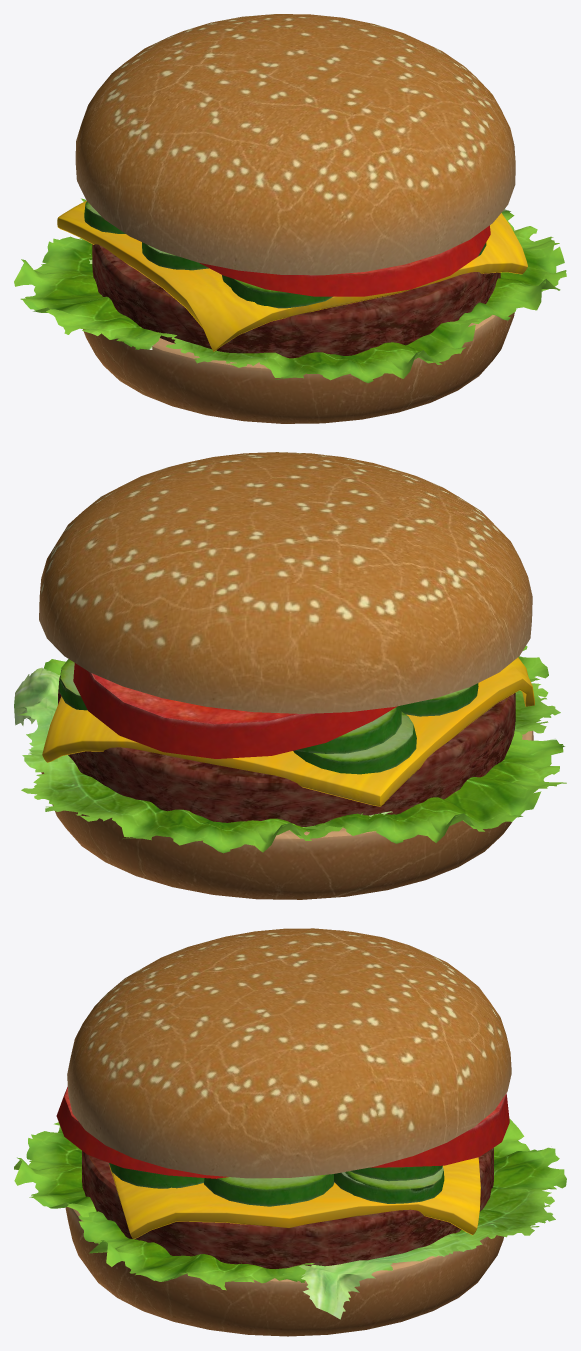
The model's file is burger2.glb.
The picture shows the model from 3 angles, top to bottom: view 1: azimuth 30°, elevation 25°; view 2: azimuth 150°, elevation 25°; view 3: azimuth 270°, elevation 25°; orthographic projection. The views are drawn at different scales.
Parts seen in each view (by area): view 1: bun_0, vegeis_1, pPlane16_4, pPlane17_5, pPlane14_2; view 2: bun_0, vegeis_1, pPlane15_3, pPlane16_4, pPlane17_5; view 3: bun_0, vegeis_1, pPlane15_3, pPlane14_2, pPlane17_5.
Part boxes in pixels (x1,y1,x2,y2): bun_0: (57,14,527,423); vegeis_1: (84,201,490,308); pPlane16_4: (14,236,176,349); pPlane17_5: (89,254,481,383); pPlane14_2: (456,210,566,323); bun_0: (39,452,534,899); vegeis_1: (59,659,478,774); pPlane15_3: (14,667,362,853); pPlane16_4: (298,731,566,843); pPlane17_5: (369,645,560,818); bun_0: (65,928,511,1336); vegeis_1: (56,1086,509,1206); pPlane15_3: (299,1118,566,1319); pPlane14_2: (78,1210,314,1290); pPlane17_5: (14,1122,95,1217).
Bounding box in the file's own units: 50.6 × 29.39 × 51.2.
Materials: 3 (3 with a texture image).
